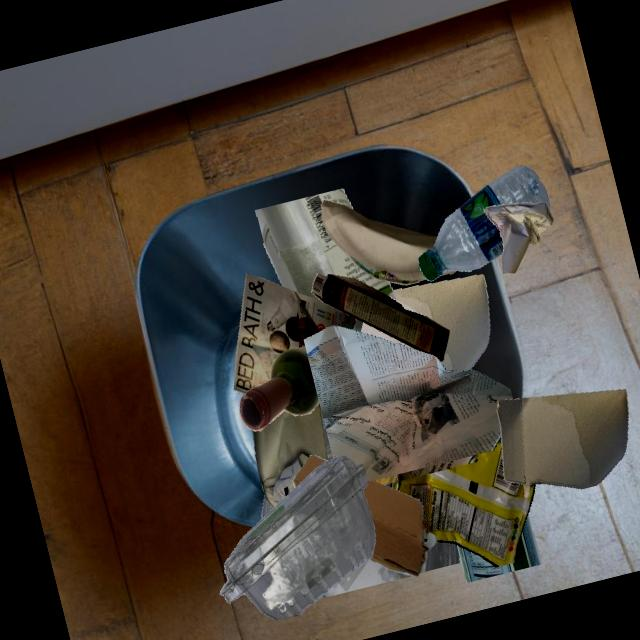cardboard: (496, 389, 628, 499), (311, 273, 449, 361), (392, 274, 490, 371), (363, 480, 436, 576)
glass: (254, 188, 397, 300), (239, 346, 319, 430), (457, 513, 541, 582)
paper: (303, 325, 513, 482), (233, 273, 355, 394), (321, 199, 437, 284), (252, 402, 327, 508), (483, 202, 554, 273), (374, 454, 477, 484), (371, 308, 433, 329), (360, 329, 417, 350)
plastic: (219, 455, 375, 620), (272, 460, 436, 577), (418, 164, 550, 281)
trash: (390, 440, 535, 567)
